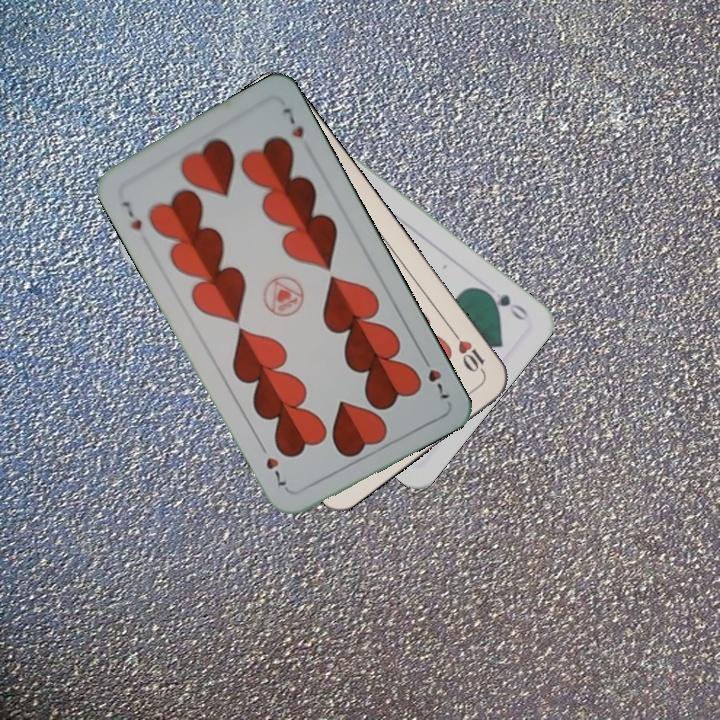GO: (479, 285, 531, 323)
H10: (447, 326, 488, 377)
H7: (417, 350, 453, 404), (117, 196, 145, 233)
